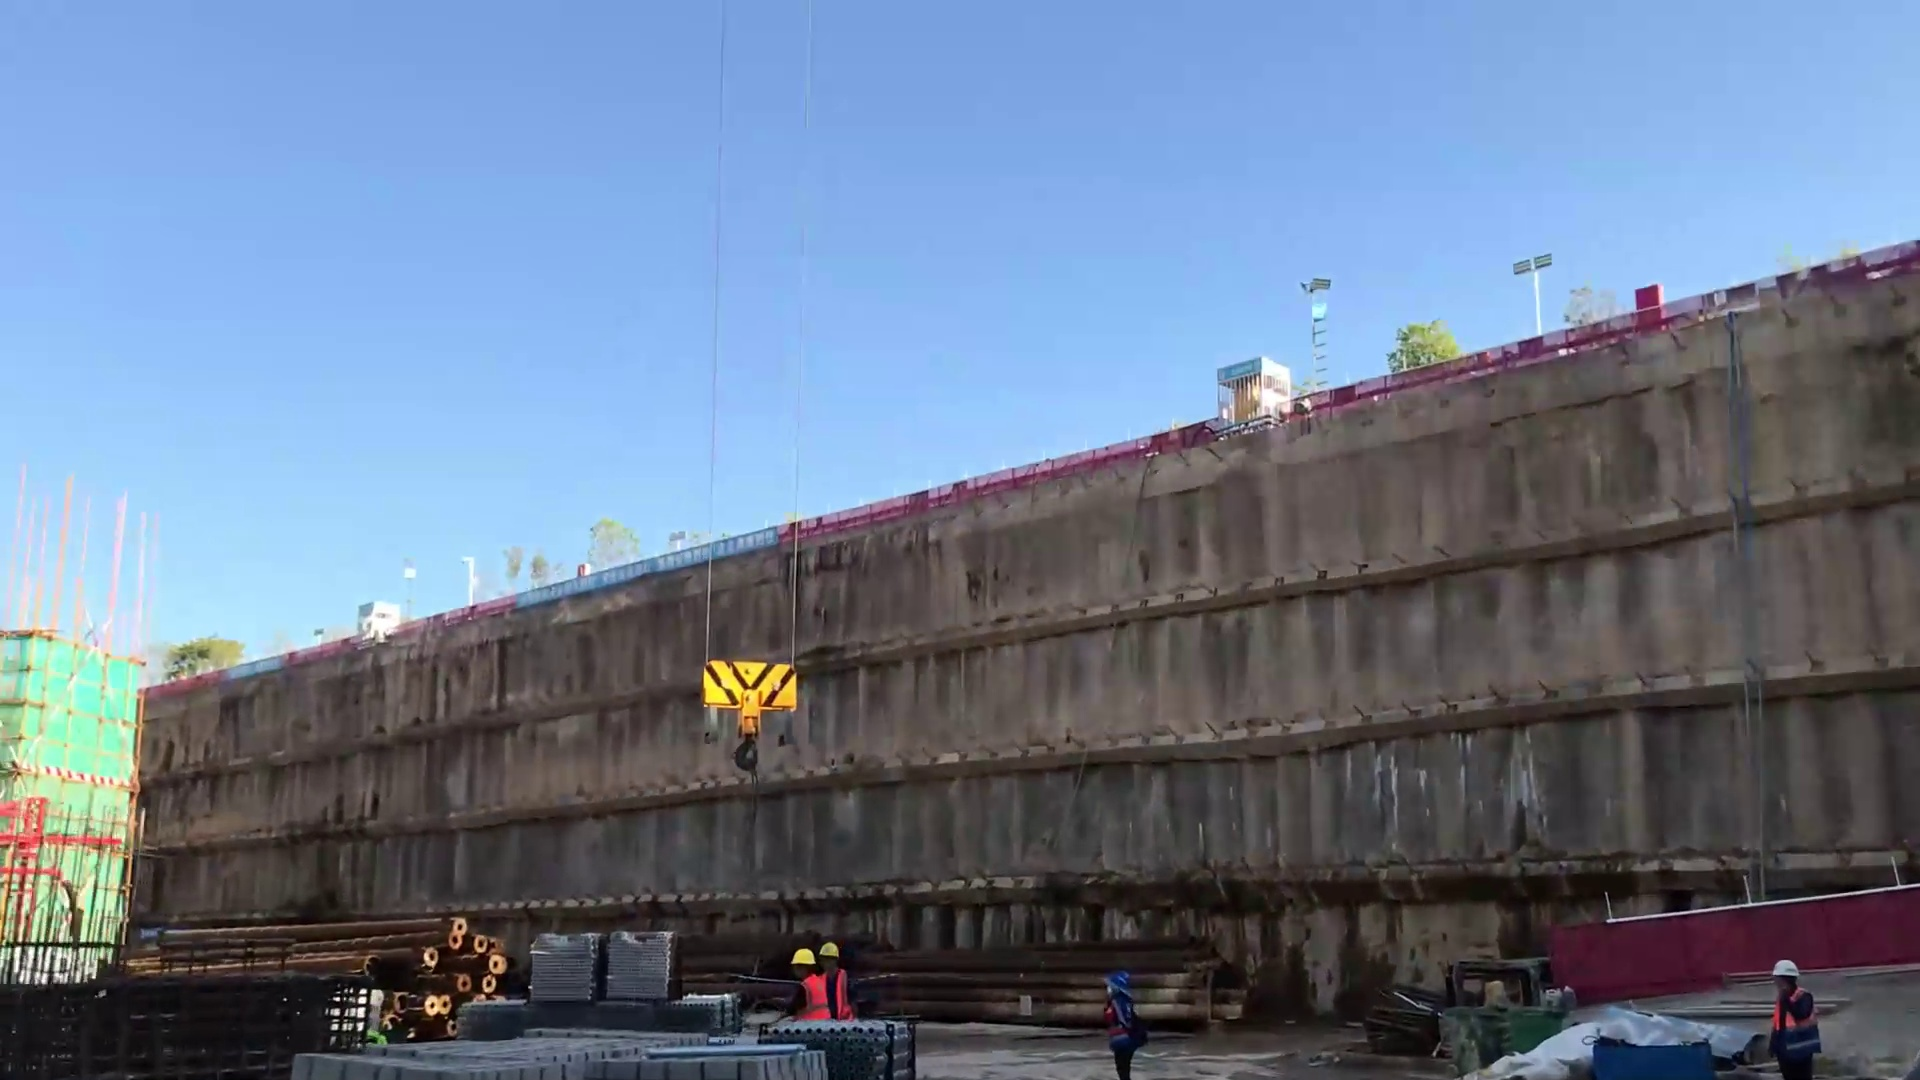helmet: (1759, 935, 1811, 977), (788, 937, 859, 966), (1098, 950, 1140, 993)
hook: (692, 649, 801, 737)
person: (1758, 956, 1836, 1079), (779, 942, 855, 1027), (1092, 976, 1150, 1074)
scaffold: (288, 961, 412, 1054)
vest: (1763, 997, 1829, 1076), (1109, 999, 1150, 1062), (788, 964, 820, 1018), (821, 964, 855, 1015)
